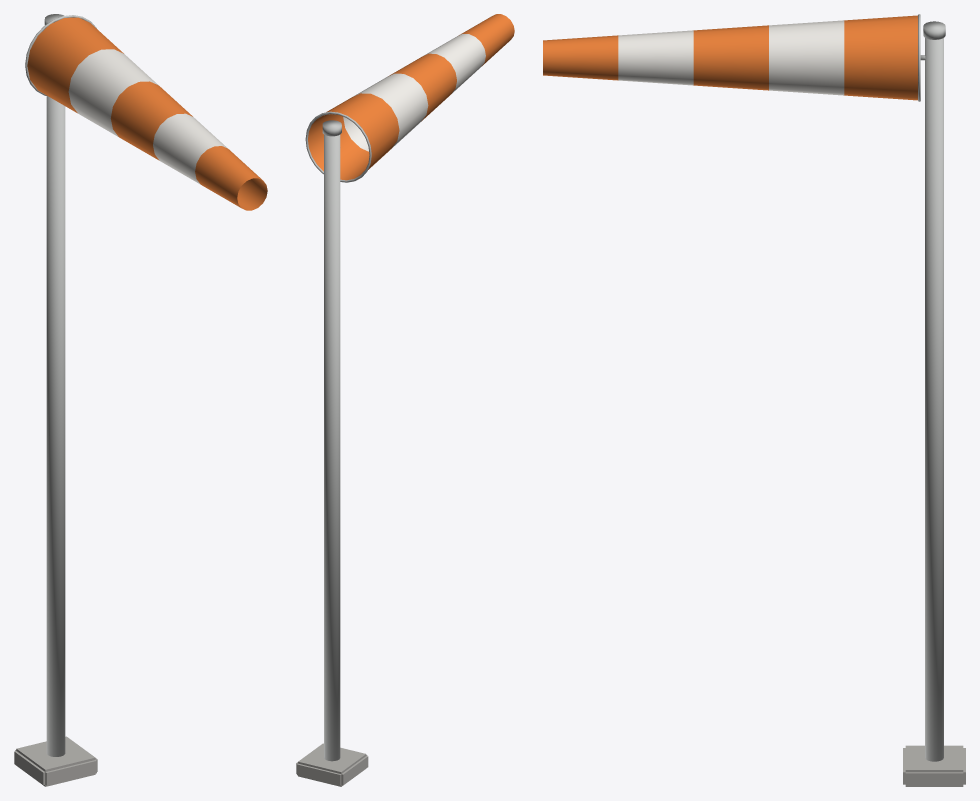
Rendered from windsock.glb.
The picture shows the model from 3 angles, left to right: view 1: azimuth 30°, elevation 25°; view 2: azimuth 150°, elevation 25°; view 3: azimuth 270°, elevation 25°; orthographic projection. The views are drawn at different scales.
Parts seen in each view (by area): view 1: pole, sock_seg_0, sock_seg_1, sock_seg_2, sock_seg_4, sock_seg_3, footing; view 2: pole, sock_seg_0, sock_seg_1, footing, sock_seg_2, sock_seg_3, sock_seg_4, sock_hoop; view 3: pole, sock_seg_0, sock_seg_1, sock_seg_2, sock_seg_3, sock_seg_4, footing.
Boxes of the visible parts, x1=… form: pole: x1=46, y1=96, x2=65, y2=756; sock_seg_0: x1=27, y1=17, x2=123, y2=113; sock_seg_1: x1=68, y1=49, x2=158, y2=136; sock_seg_2: x1=110, y1=81, x2=192, y2=160; sock_seg_4: x1=195, y1=146, x2=267, y2=210; sock_seg_3: x1=153, y1=113, x2=227, y2=184; footing: x1=14, y1=736, x2=97, y2=786; pole: x1=324, y1=134, x2=340, y2=761; sock_seg_0: x1=308, y1=93, x2=399, y2=180; sock_seg_1: x1=343, y1=73, x2=428, y2=151; footing: x1=296, y1=743, x2=368, y2=786; sock_seg_2: x1=388, y1=53, x2=456, y2=121; sock_seg_3: x1=423, y1=34, x2=485, y2=93; sock_seg_4: x1=458, y1=14, x2=514, y2=65; sock_hoop: x1=305, y1=111, x2=371, y2=182; pole: x1=925, y1=38, x2=943, y2=761; sock_seg_0: x1=844, y1=15, x2=917, y2=100; sock_seg_1: x1=769, y1=20, x2=844, y2=95; sock_seg_2: x1=693, y1=25, x2=768, y2=90; sock_seg_3: x1=618, y1=30, x2=693, y2=85; sock_seg_4: x1=543, y1=35, x2=618, y2=80; footing: x1=903, y1=745, x2=965, y2=786.
Bounding box in the file's own units: 0.704 × 6.66 × 3.37.
